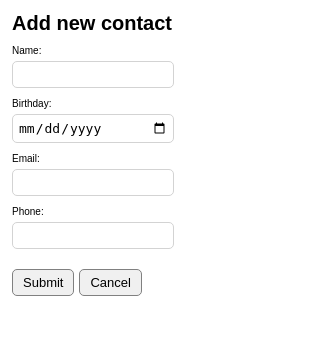
ContactCard component › Submit empty fields and check errors
Click the button with aria-label "contact-form-submit-btn": (43, 282) [12,269,74,296]
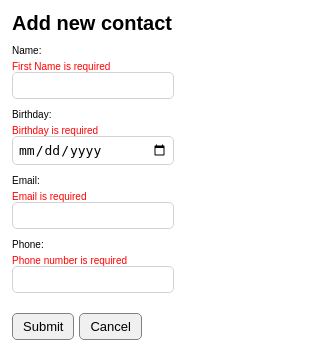
Result: the text named "contact-form-error-name" is shown at [12,61,110,72]
Result: the text named "contact-form-error-birthday" is shown at [12,125,98,136]
Result: the text named "contact-form-error-email" is shown at [12,191,86,202]
